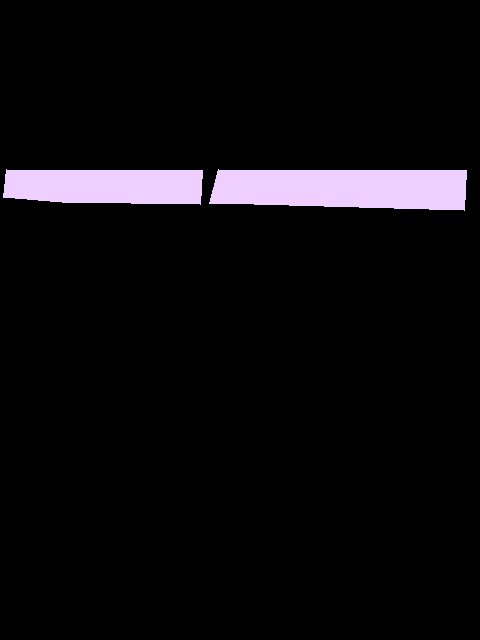Train: (3, 169, 467, 211)
